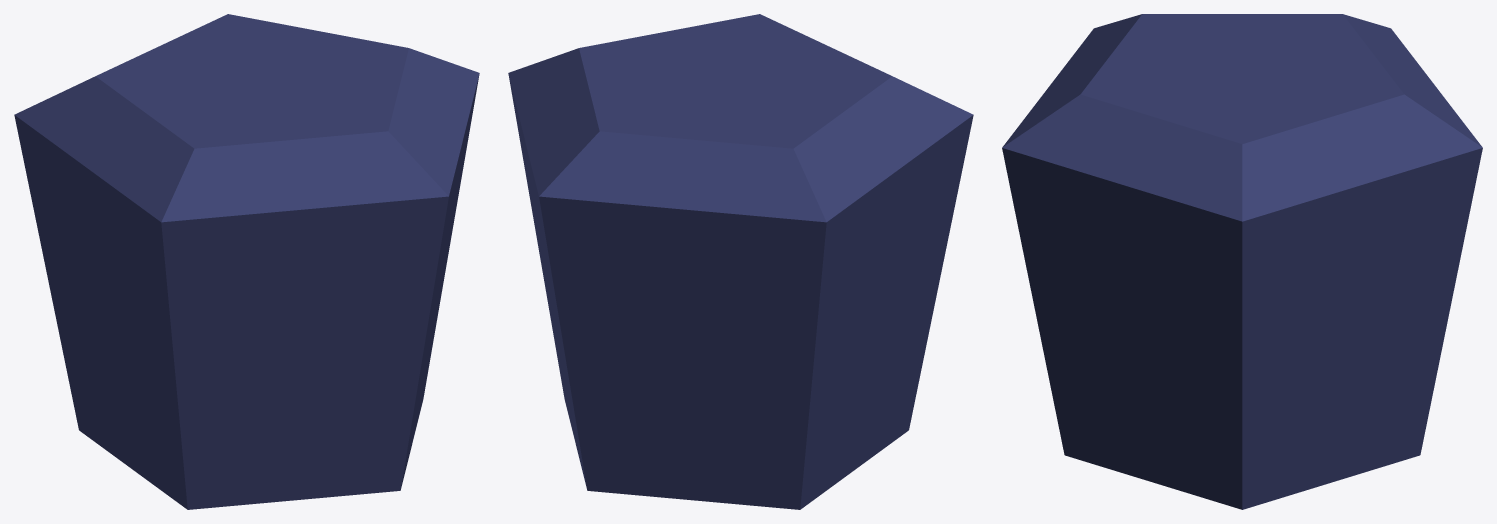
File: SoundEmitter_FixedPart.FBX
The picture shows the model from 3 angles, left to right: view 1: azimuth 30°, elevation 25°; view 2: azimuth 150°, elevation 25°; view 3: azimuth 270°, elevation 25°; orthographic projection.
Parts seen in each view (by area): view 1: Object011; view 2: Object011; view 3: Object011.
Boxes of the visible parts, x1,y1,x2,y2 form: Object011: (14, 14, 479, 509); Object011: (508, 14, 973, 509); Object011: (1002, 14, 1482, 509).
Bounding box in the file's own units: 10.52 × 9.1 × 11.06.
